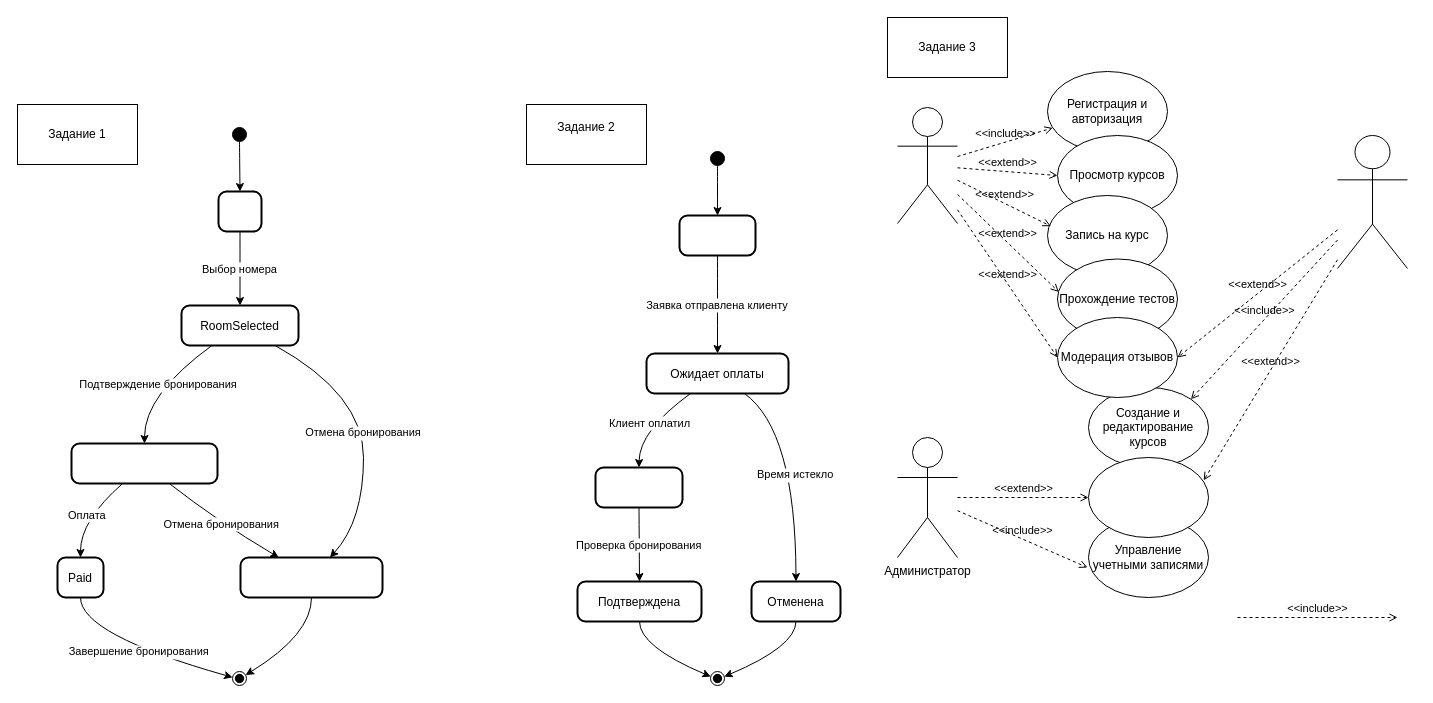
This 1433x703 diagram has some shape labels left out. Each missing label, with the box of its shape:
BookingCancelled: (239, 556, 383, 598)
BookingConfirmed: (70, 442, 218, 484)
Idle: (217, 190, 262, 232)
Оплачена: (594, 466, 683, 508)
Преподаватель: (1336, 134, 1408, 268)
Просмотр аналитики: (1088, 456, 1208, 538)
Создана: (678, 214, 756, 256)
Студент: (896, 106, 958, 224)
